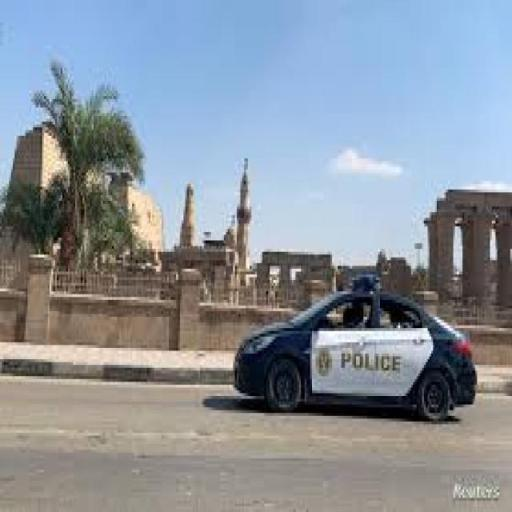Ambulance: (235, 270, 479, 426)
